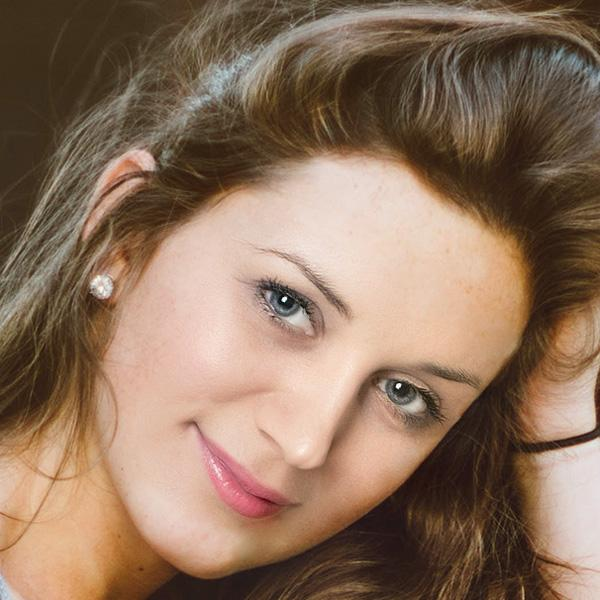Eyes: (248, 271, 325, 348), (366, 363, 444, 436)
